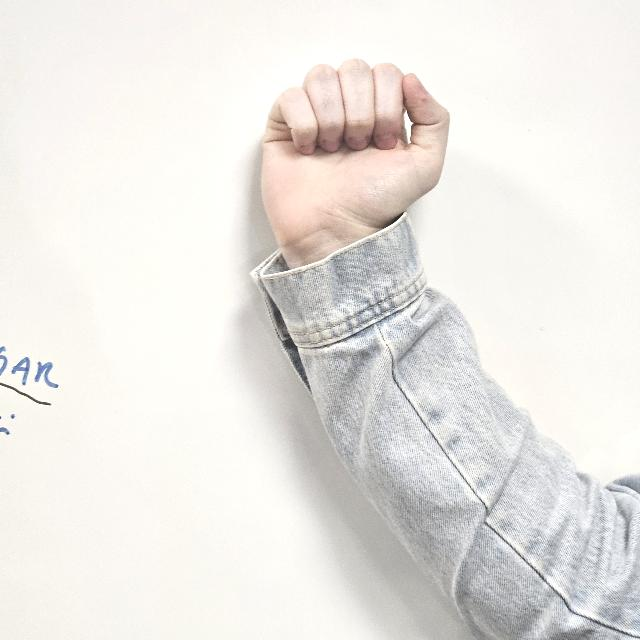Quadro: (247, 58, 467, 236)
